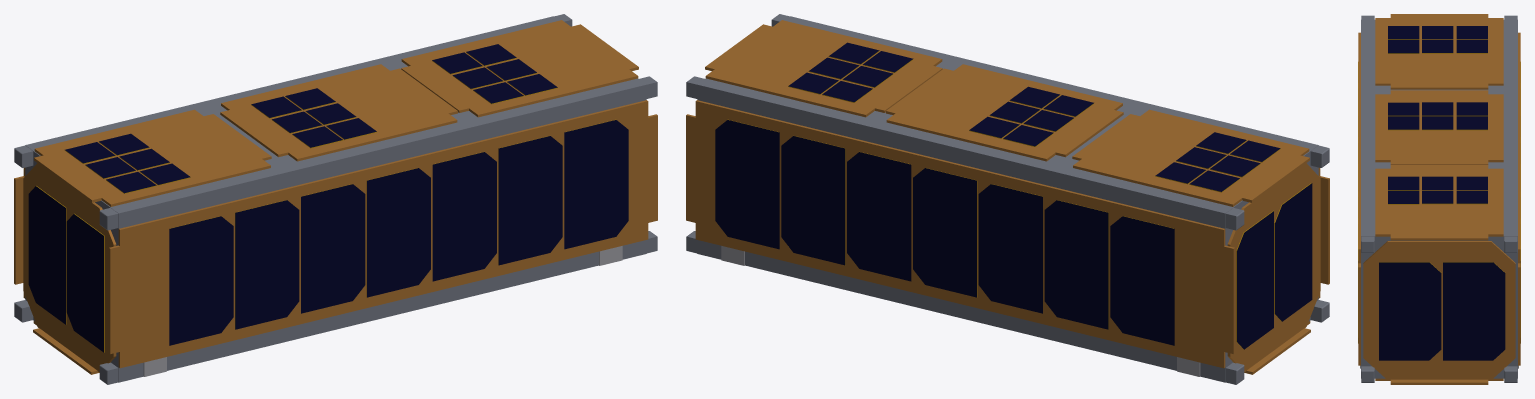
File: cubesat_3u.dae
3 renders of one model, left to right at view 1: azimuth 30°, elevation 25°; view 2: azimuth 150°, elevation 25°; view 3: azimuth 270°, elevation 25°, orthographic. The views are drawn at different scales.
Visible parts, largest first — view 1: Minus-Y_Cells, 3U_Cubesat, Minus-Y, Plus-Z3, Plus-Z2, Plus-Z1, Minus-X_Cells, Minus-X, Plus-Z2_Cells, Plus-Z1_Cells, Plus-Z3_Cells, Plus-Y (+1 smaller); view 2: Plus-Y_Cells, 3U_Cubesat, Plus-Y, Plus-Z3, Plus-Z2, Plus-Z1, Minus-X_Cells, Minus-X, Plus-Z3_Cells, Plus-Z1_Cells, Plus-Z2_Cells, Minus-Y (+1 smaller); view 3: Plus-X_Cells, 3U_Cubesat, Plus-X, Plus-Z1, Plus-Z2, Plus-Z3, Plus-Z2_Cells, Plus-Z1_Cells, Plus-Z3_Cells, Plus-Y, Minus-Y, Minus-Z.
Part boxes in pixels (<box>): Minus-Y_Cells: <box>169,120,628,345</box>; 3U_Cubesat: <box>14,14,657,384</box>; Minus-Y: <box>109,100,657,376</box>; Plus-Z3: <box>34,109,271,206</box>; Plus-Z2: <box>220,64,457,161</box>; Plus-Z1: <box>401,20,638,117</box>; Minus-X_Cells: <box>28,186,103,352</box>; Minus-X: <box>23,163,116,372</box>; Plus-Z2_Cells: <box>251,88,376,147</box>; Plus-Z1_Cells: <box>432,44,557,103</box>; Plus-Z3_Cells: <box>65,133,190,193</box>; Plus-Y: <box>14,167,25,298</box>; Plus-Y_Cells: <box>715,120,1174,345</box>; 3U_Cubesat: <box>686,14,1329,384</box>; Plus-Y: <box>686,100,1234,376</box>; Plus-Z3: <box>1072,109,1309,206</box>; Plus-Z2: <box>886,64,1123,161</box>; Plus-Z1: <box>705,20,942,117</box>; Minus-X_Cells: <box>1237,183,1312,349</box>; Minus-X: <box>1227,163,1320,372</box>; Plus-Z3_Cells: <box>1155,132,1280,191</box>; Plus-Z1_Cells: <box>788,42,913,102</box>; Plus-Z2_Cells: <box>969,86,1093,146</box>; Minus-Y: <box>1318,167,1329,298</box>; Plus-X_Cells: <box>1379,262,1505,360</box>; 3U_Cubesat: <box>1361,15,1517,382</box>; Plus-X: <box>1363,241,1515,380</box>; Plus-Z1: <box>1375,164,1503,240</box>; Plus-Z2: <box>1375,90,1503,164</box>; Plus-Z3: <box>1375,14,1503,89</box>; Plus-Z2_Cells: <box>1388,102,1487,129</box>; Plus-Z1_Cells: <box>1388,176,1487,203</box>; Plus-Z3_Cells: <box>1388,26,1487,53</box>; Plus-Y: <box>1518,32,1520,368</box>; Minus-Y: <box>1358,32,1360,368</box>; Minus-Z: <box>1375,378,1503,384</box>.
Size of the model in its own units: 0.3405 by 0.1036 by 0.1036.
